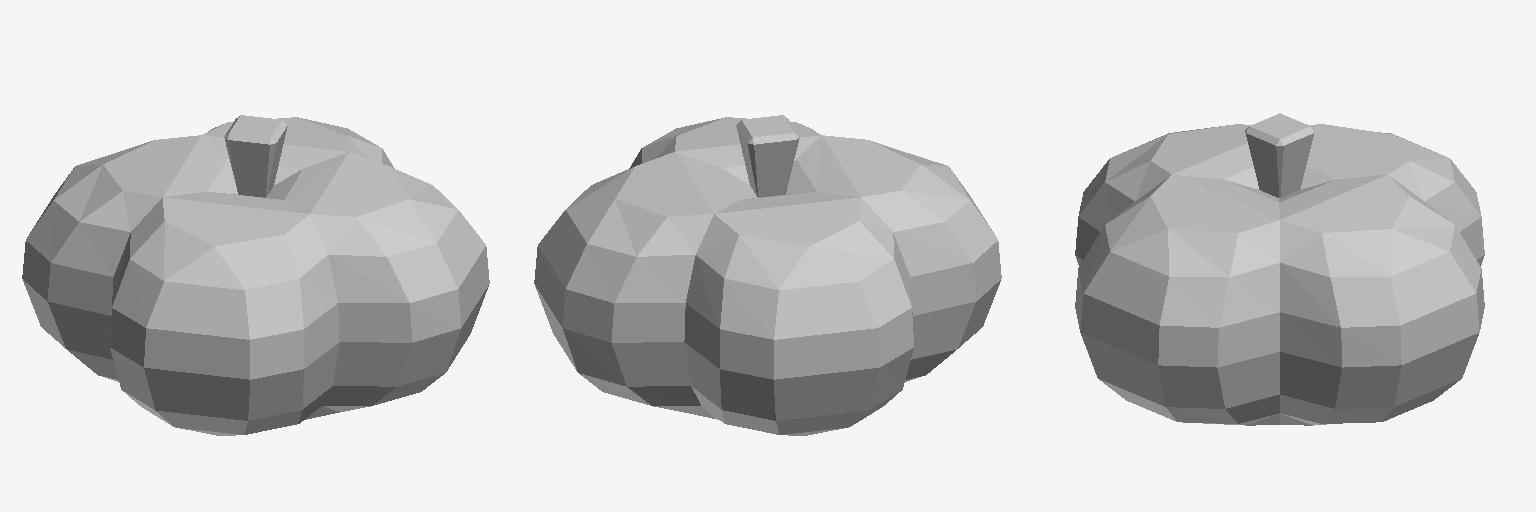
The model's file is pumpkin_yellow.obj.
3 views of the same model, side by side, from view 1: azimuth 30°, elevation 25°; view 2: azimuth 150°, elevation 25°; view 3: azimuth 270°, elevation 25° (orthographic).
Visible parts, largest first — view 1: pumpkin_yellow_Cube.082; view 2: pumpkin_yellow_Cube.082; view 3: pumpkin_yellow_Cube.082.
Boxes of the visible parts, x1=… form: pumpkin_yellow_Cube.082: x1=22, y1=115, x2=489, y2=435; pumpkin_yellow_Cube.082: x1=534, y1=115, x2=1001, y2=435; pumpkin_yellow_Cube.082: x1=1075, y1=113, x2=1484, y2=425.
Bounding box in the file's own units: 1 × 0.7 × 1.